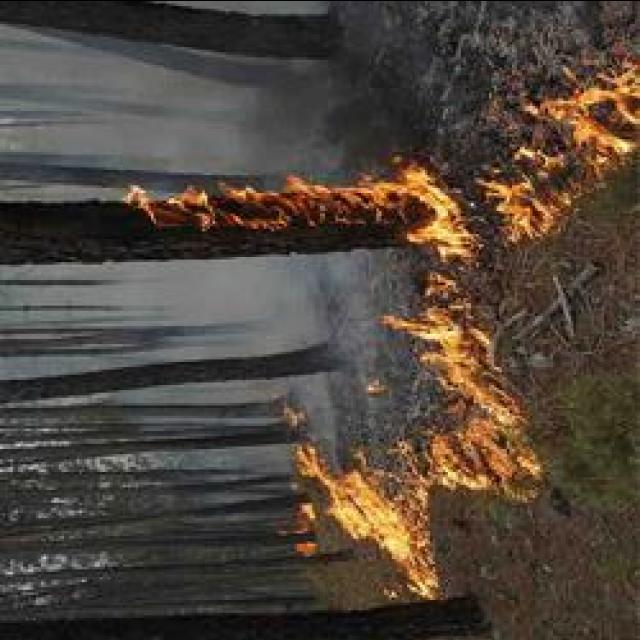fire: (579, 82, 639, 144), (346, 476, 402, 528), (428, 319, 481, 371), (412, 196, 462, 242)
smoke: (136, 258, 327, 324), (112, 110, 270, 170), (338, 250, 386, 314), (304, 380, 336, 432)
